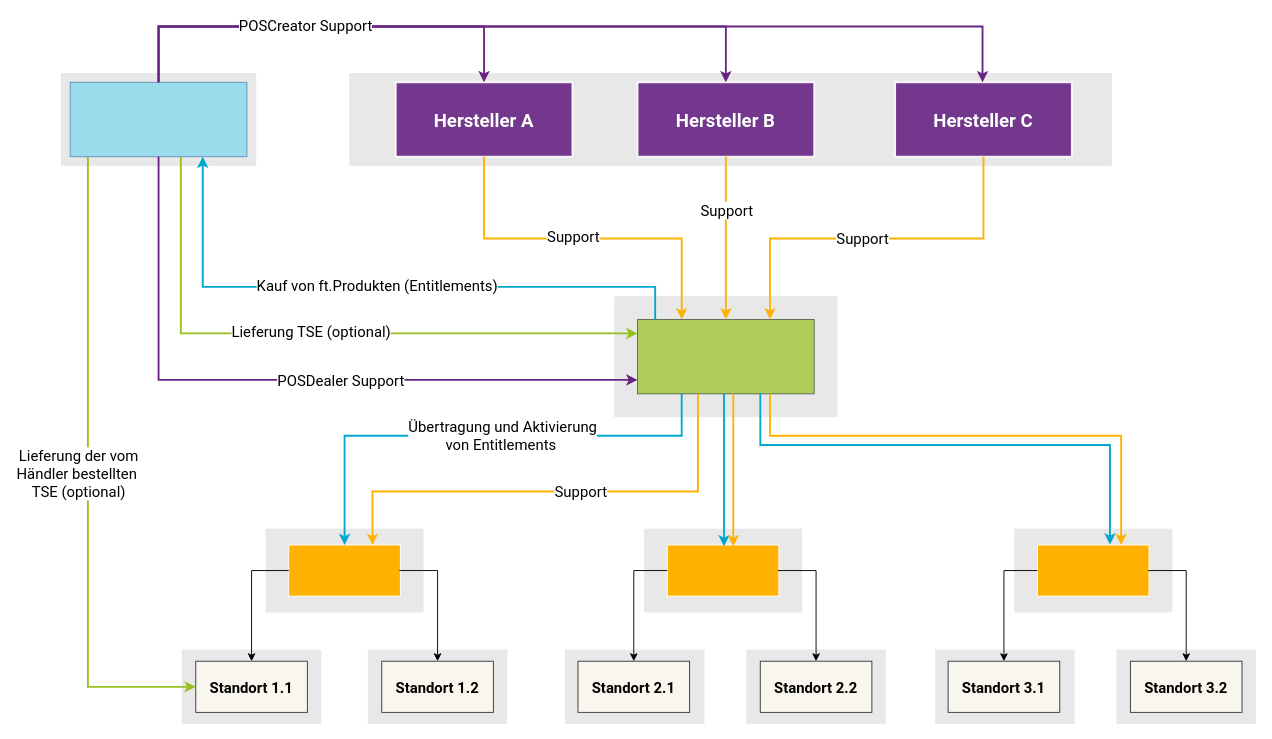
This 1272x739 diagram has some shape labels left out. The shapes that lost their labels are listed below. From the top down, each one's centre as x and y in pixels, then its label:
point 158,119: fiskaltrust
point 725,356: Händler
point 344,570: Betreiber 1
point 722,570: Betreiber 2
point 1092,570: Betreiber 3
